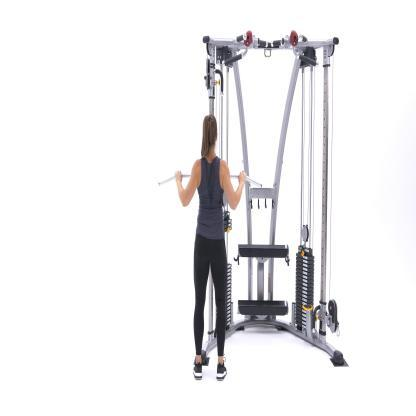Lat Pull Down: (148, 19, 368, 394)
